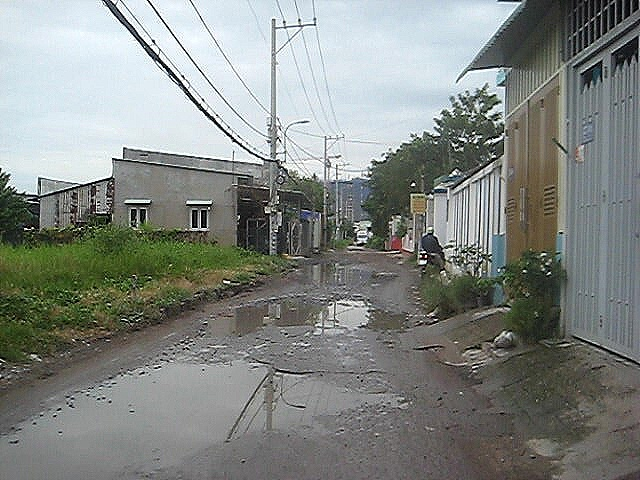hole: (1, 351, 406, 480), (165, 291, 411, 349), (274, 260, 401, 291)
